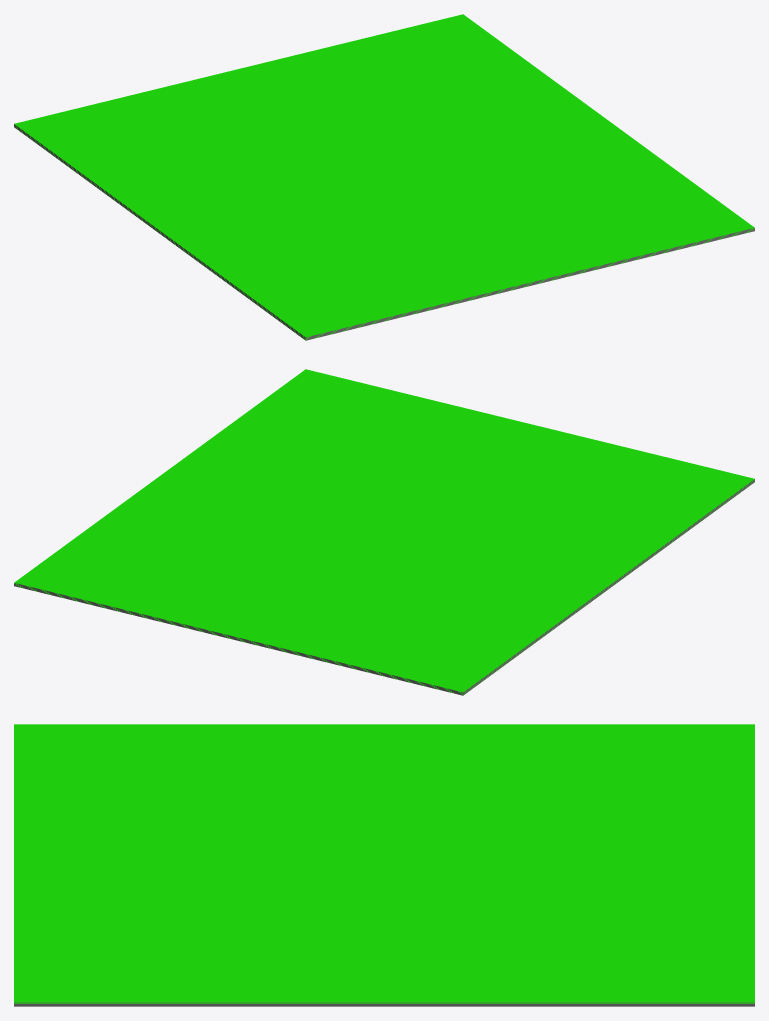
The model's file is final-book.fbx.
The picture shows the model from 3 angles, top to bottom: view 1: azimuth 30°, elevation 25°; view 2: azimuth 150°, elevation 25°; view 3: azimuth 270°, elevation 25°; orthographic projection. The views are drawn at different scales.
Visible parts, largest first — view 1: Page; view 2: Page; view 3: Page, Page.001, Page.003, Page.004, Page.006, Page.007, Page.009, Page.010, Page.012, Page.013, Page.015, Page.016 (+1 smaller).
Part boxes in pixels (x1=…): Page: x1=14, y1=14, x2=754, y2=337; Page: x1=14, y1=369, x2=754, y2=692; Page: x1=14, y1=724, x2=754, y2=1002; Page.001: x1=14, y1=1002, x2=754, y2=1002; Page.003: x1=14, y1=1003, x2=754, y2=1003; Page.004: x1=14, y1=1003, x2=754, y2=1003; Page.006: x1=14, y1=1003, x2=754, y2=1003; Page.007: x1=14, y1=1004, x2=754, y2=1004; Page.009: x1=14, y1=1004, x2=754, y2=1004; Page.010: x1=14, y1=1004, x2=754, y2=1004; Page.012: x1=14, y1=1005, x2=754, y2=1005; Page.013: x1=14, y1=1005, x2=754, y2=1005; Page.015: x1=14, y1=1005, x2=754, y2=1005; Page.016: x1=14, y1=1006, x2=754, y2=1006.
Size of the model in its own units: 1 by 1.12 by 0.00714.
